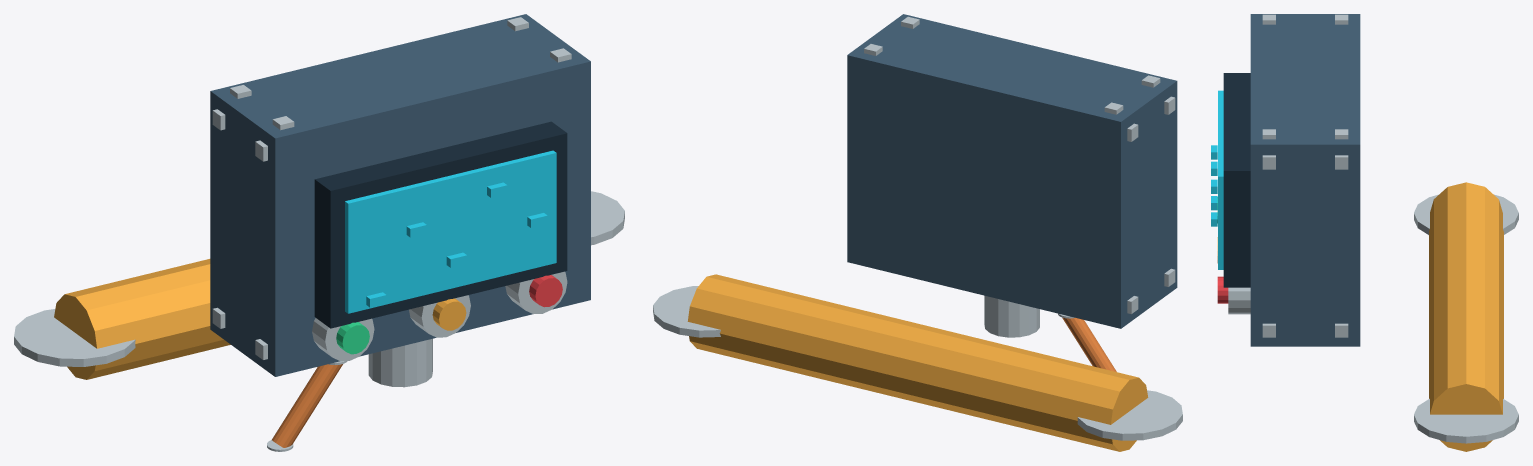
Rendered from 17_L77_BulkSlurryFlowTransmitter.fbx.
The picture shows the model from 3 angles, left to right: view 1: azimuth 30°, elevation 25°; view 2: azimuth 150°, elevation 25°; view 3: azimuth 270°, elevation 25°; orthographic projection. The views are drawn at different scales.
Parts seen in each view (by area): view 1: BulkSlurryFlowTransmitter; view 2: BulkSlurryFlowTransmitter; view 3: BulkSlurryFlowTransmitter.
Boxes of the visible parts, x1,y1,x2,y2 form: BulkSlurryFlowTransmitter: (14,14,624,451); BulkSlurryFlowTransmitter: (653,14,1182,451); BulkSlurryFlowTransmitter: (1211,14,1518,451).
Bounding box in the file's own units: 109 × 61.09 × 57.42.
